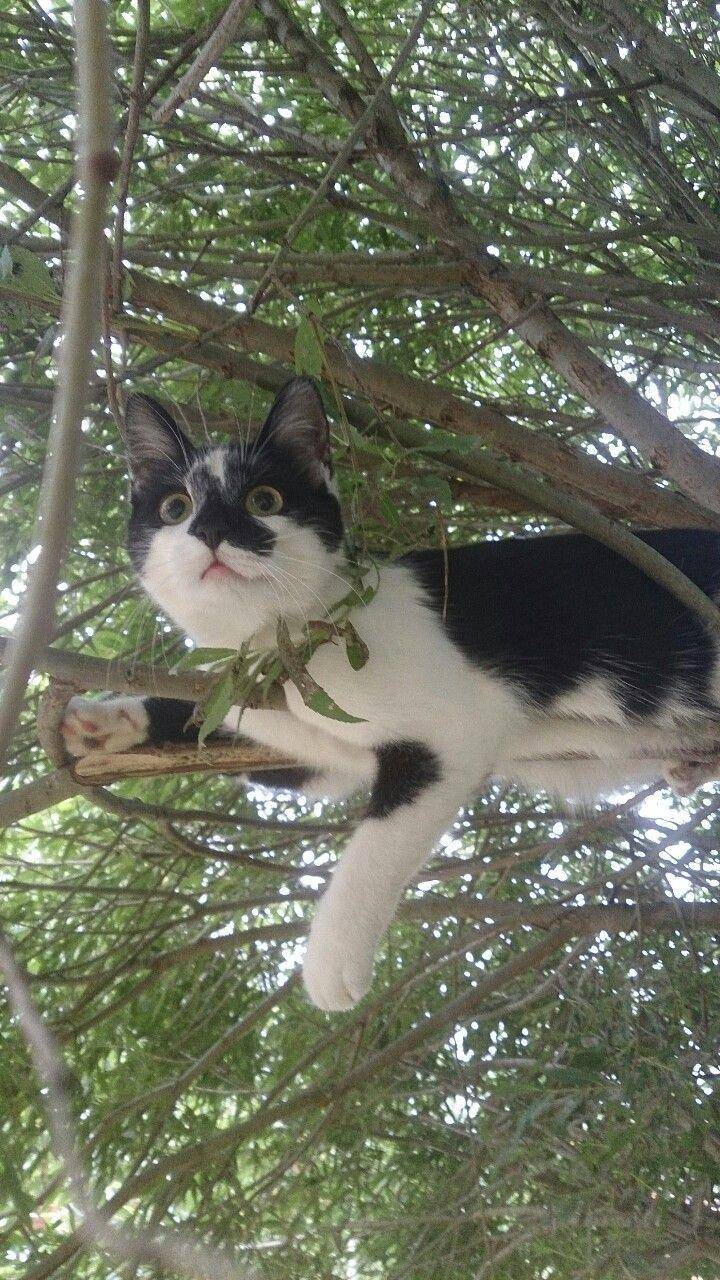kedo: (63, 375, 720, 1009)
